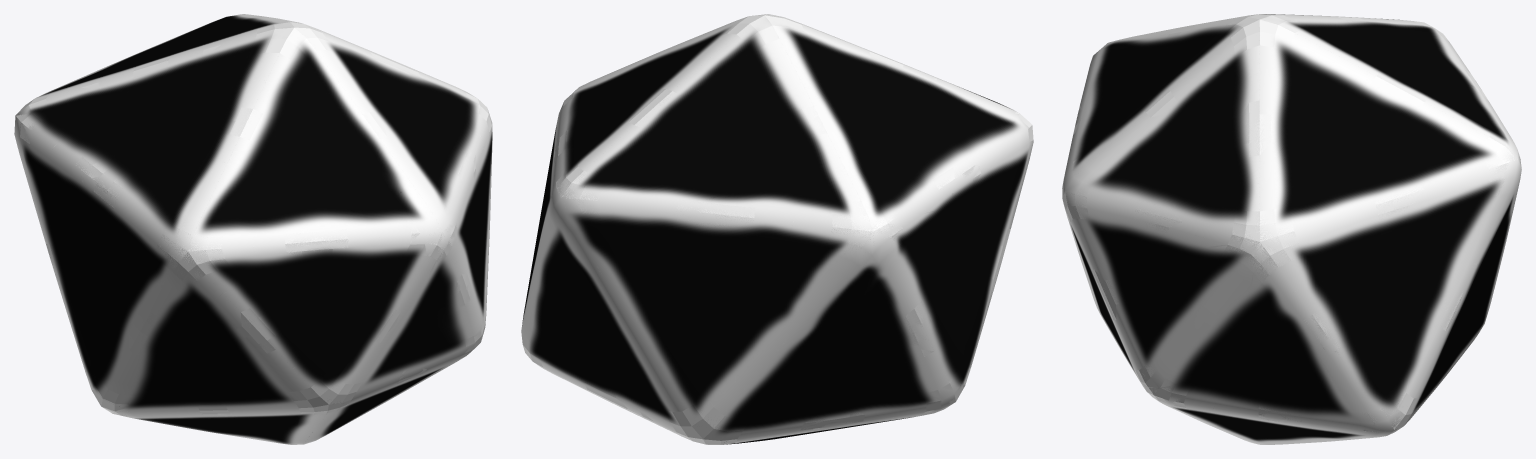
The model's file is wiredrawnrock.fbx_Scene.fbx.
3 renders of one model, left to right at view 1: azimuth 30°, elevation 25°; view 2: azimuth 150°, elevation 25°; view 3: azimuth 270°, elevation 25°, orthographic.
Parts seen in each view (by area): view 1: Icosphere, Icosphere_cell1, Icosphere_cell3, Icosphere_cell1sub0, Icosphere_cell3sub0, Icosphere_cell3sub1, Icosphere_cell0, Icosphere_cell1sub2, Icosphere_cell2sub0, Icosphere_cell3sub2, Icosphere_cell1sub1; view 2: Icosphere, Icosphere_cell3, Icosphere_cell3sub1, Icosphere_cell3sub0, Icosphere_cell2, Icosphere_cell2sub2, Icosphere_cell1, Icosphere_cell1sub1, Icosphere_cell3sub2, Icosphere_cell1sub2, Icosphere_cell1sub0, Icosphere_cell2sub1; view 3: Icosphere, Icosphere_cell3, Icosphere_cell3sub1, Icosphere_cell0, Icosphere_cell3sub2, Icosphere_cell2, Icosphere_cell3sub0, Icosphere_cell2sub1, Icosphere_cell2sub0, Icosphere_cell1.
Part boxes in pixels (x1,y1,x2,y2): Icosphere: (14,14,492,444); Icosphere_cell1: (46,152,426,417); Icosphere_cell3: (20,15,492,212); Icosphere_cell1sub0: (125,153,426,350); Icosphere_cell3sub0: (15,55,333,202); Icosphere_cell3sub1: (133,14,389,145); Icosphere_cell0: (374,152,490,346); Icosphere_cell1sub2: (80,310,411,397); Icosphere_cell2sub0: (216,335,482,427); Icosphere_cell3sub2: (334,61,490,161); Icosphere_cell1sub1: (93,156,204,314); Icosphere: (523,21,1033,444); Icosphere_cell3: (530,15,954,347); Icosphere_cell3sub1: (556,14,859,207); Icosphere_cell3sub0: (591,56,954,356); Icosphere_cell2: (521,269,963,444); Icosphere_cell2sub2: (721,324,963,444); Icosphere_cell1: (878,69,1033,385); Icosphere_cell1sub1: (935,95,1000,319); Icosphere_cell3sub2: (529,63,645,328); Icosphere_cell1sub2: (921,273,986,381); Icosphere_cell1sub0: (992,112,1030,262); Icosphere_cell2sub1: (525,283,745,444); Icosphere: (1062,14,1521,444); Icosphere_cell3: (1129,15,1521,353); Icosphere_cell3sub1: (1149,14,1514,196); Icosphere_cell0: (1062,140,1304,387); Icosphere_cell3sub2: (1139,86,1485,353); Icosphere_cell2: (1144,284,1492,444); Icosphere_cell3sub0: (1138,16,1495,309); Icosphere_cell2sub1: (1243,346,1452,437); Icosphere_cell2sub0: (1141,377,1229,417); Icosphere_cell1: (1073,46,1153,341).
Size of the model in its own units: 132 by 133 by 132.
